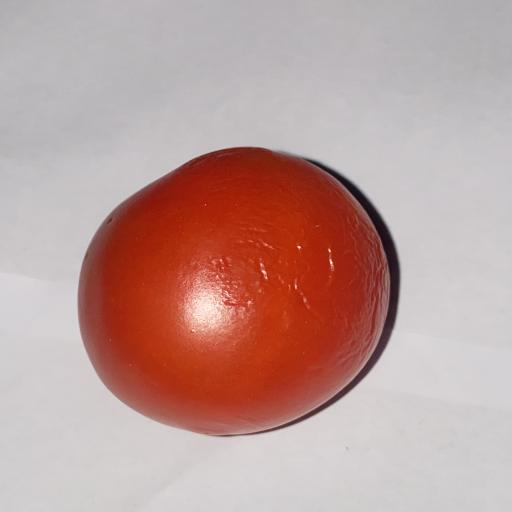spoiled: (79, 148, 389, 435)
